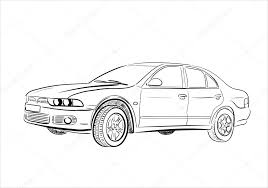car: (20, 60, 257, 146)
